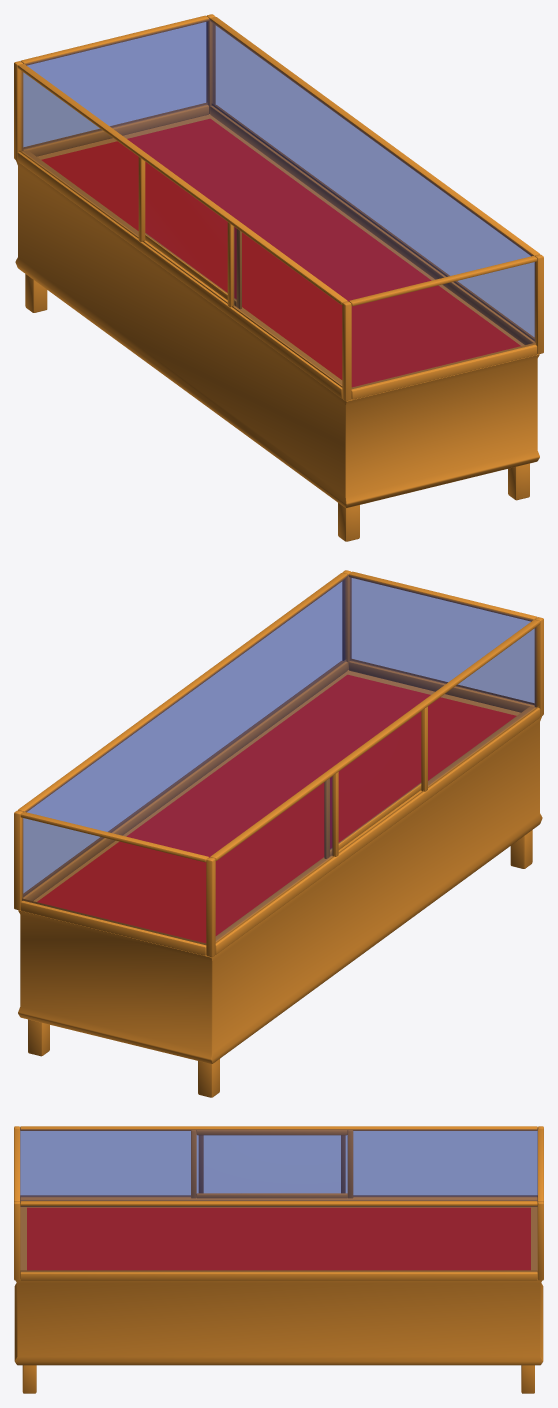
Rendered from display_case.glb.
3 renders of one model, top to bottom at view 1: azimuth 30°, elevation 25°; view 2: azimuth 150°, elevation 25°; view 3: azimuth 270°, elevation 25°, orthographic. The views are drawn at different scales.
Visible parts, largest first — view 1: Glass, Base, Cloth, Frame, Glass Panel; view 2: Glass, Base, Cloth, Frame, Glass Panel; view 3: Glass, Base, Cloth, Frame, Glass Panel.
Boxes of the visible parts, x1,y1,x2,y2 form: Glass: (21,19,535,388); Base: (15,102,539,508); Cloth: (41,118,520,387); Frame: (14,14,543,541); Glass Panel: (145,162,241,309); Glass: (22,575,536,944); Base: (18,658,542,1064); Cloth: (37,674,516,943); Frame: (14,570,543,1097); Glass Panel: (324,712,421,858); Glass: (20,1129,537,1271); Base: (14,1195,543,1365); Cloth: (27,1207,530,1270); Frame: (14,1126,543,1393); Glass Panel: (191,1130,353,1198).
Bounding box in the file's own units: 1.47 × 1.72 × 4.25.
